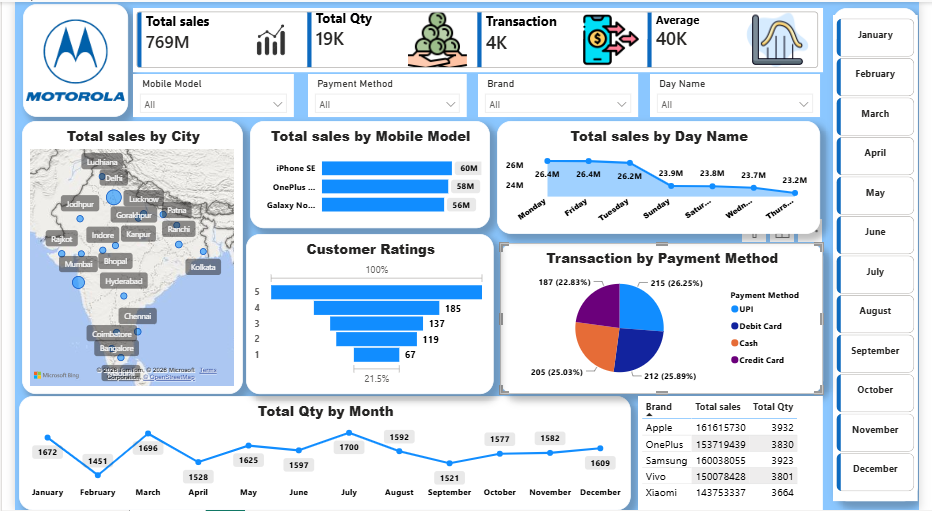

The dashboard page shown, as its layout file describes it:
{"tool":"powerbi","page":{"name":"Page 1","canvas":[1280,720],"ordinal":0},"visuals":[{"type":"shape","box":[11.3,2.8,148.8,103.5],"z":0},{"type":"image","box":[5.7,2.8,160.2,97.8],"z":1000},{"type":"shape","box":[1172.1,8.5,107.7,698.7],"z":2000},{"type":"advancedSlicerVisual","fields":{"Values":["Sales_Data.Date.Variation.Date Hierarchy.Month"]},"box":[1172.1,28.3,107.7,691.7],"z":3000},{"type":"cardVisual","fields":{"Data":["Sales_Data.Total sales","Sales_Data.Total Qty","Sales_Data.Transaction","Sales_Data.Average"]},"box":[181.4,0,978,106.3],"z":4000},{"type":"map","fields":{"Category":["Sales_Data.City"],"Size":["Sales_Data.Total sales"]},"box":[11.3,114.8,318.9,412.4],"z":5000},{"type":"lineChart","fields":{"Y":["Sales_Data.Total Qty"],"Category":["Sales_Data.Date.Variation.Date Hierarchy.Month","Sales_Data.Date.Variation.Date Hierarchy.Day"]},"box":[11.3,545.7,873.1,161.6],"z":6000},{"type":"barChart","fields":{"Category":["Sales_Data.Mobile Model"],"Y":["Sales_Data.Total sales"]},"box":[344.4,114.8,340.2,165.8],"z":7000},{"type":"pieChart","fields":{"Category":["Sales_Data.Payment Method"],"Y":["Sales_Data.Transaction"]},"box":[712.9,289.1,446.5,238.1],"z":8000},{"type":"funnel","title":"Customer Ratings","fields":{"Category":["Sales_Data.Customer Ratings"],"Y":["CountNonNull(Sales_Data.Customer Ratings)"]},"box":[344.4,289.1,351.5,238.1],"z":9000},{"type":"areaChart","title":"Total sales by Day Name","fields":{"Category":["Sales_Data.Day Name"],"Y":["Sales_Data.Total sales"]},"box":[695.9,106.3,463.5,168.7],"z":10000},{"type":"tableEx","fields":{"Values":["Sales_Data.Brand","Sales_Data.Total sales","Sales_Data.Total Qty"]},"box":[897.2,545.7,262.2,161.6],"z":11000}]}

Visuals, with their boxes in screenshot pixels (x1, y1, x2, y2), scaled from the page's 1280x720 canvas onto the 932x511 screenshot:
shape: detection(8, 2, 117, 75)
image: detection(4, 2, 121, 71)
shape: detection(853, 6, 931, 502)
advancedSlicerVisual - Sales_Data.Date.Variation.Date Hierarchy.Month: detection(853, 20, 931, 510)
cardVisual - Sales_Data.Total sales x Sales_Data.Total Qty: detection(132, 0, 844, 75)
map - Sales_Data.City x Sales_Data.Total sales: detection(8, 81, 240, 374)
lineChart - Sales_Data.Total Qty x Sales_Data.Date.Variation.Date Hierarchy.Month: detection(8, 387, 644, 502)
barChart - Sales_Data.Mobile Model x Sales_Data.Total sales: detection(251, 81, 498, 199)
pieChart - Sales_Data.Payment Method x Sales_Data.Transaction: detection(519, 205, 844, 374)
"Customer Ratings" funnel: detection(251, 205, 507, 374)
"Total sales by Day Name" areaChart: detection(507, 75, 844, 195)
tableEx - Sales_Data.Brand x Sales_Data.Total sales: detection(653, 387, 844, 502)
